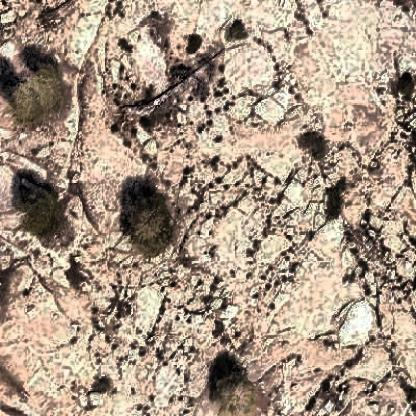tree-top: (1, 45, 70, 131), (114, 192, 193, 259), (9, 176, 75, 248), (200, 355, 272, 416)
